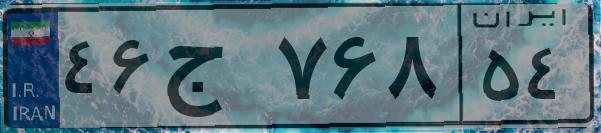4: (57, 26, 110, 100), (525, 38, 570, 115)
5: (475, 38, 525, 113)
6: (330, 28, 385, 110), (110, 28, 158, 98)
7: (270, 28, 330, 110)
8: (385, 28, 445, 110)
ج: (158, 20, 270, 120)
